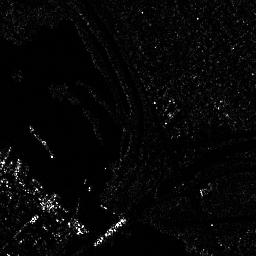ship: (92, 217, 127, 247), (27, 125, 54, 158)
